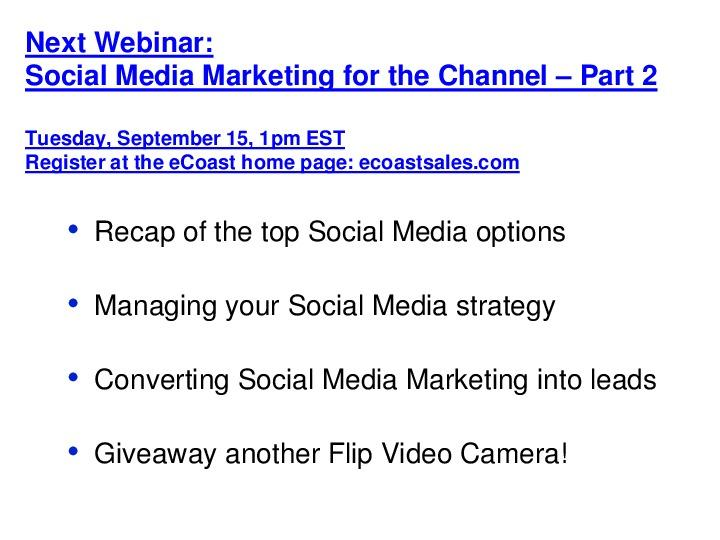paragraph: (59, 198, 690, 506)
subtitle: (18, 122, 556, 186)
title: (15, 20, 683, 106)
